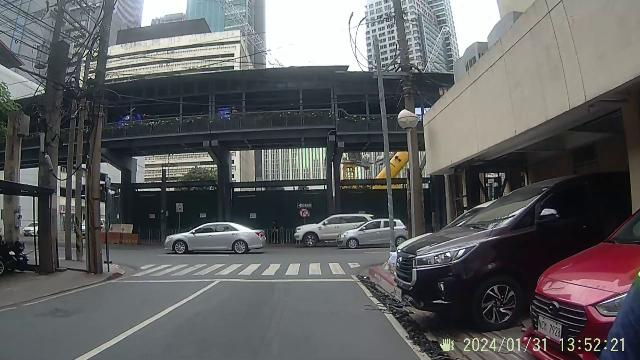car: (403, 166, 623, 306)
lamp_post: (398, 106, 422, 236)
street_sign: (296, 201, 314, 229), (174, 200, 186, 230)
utility_post: (36, 23, 110, 279)
